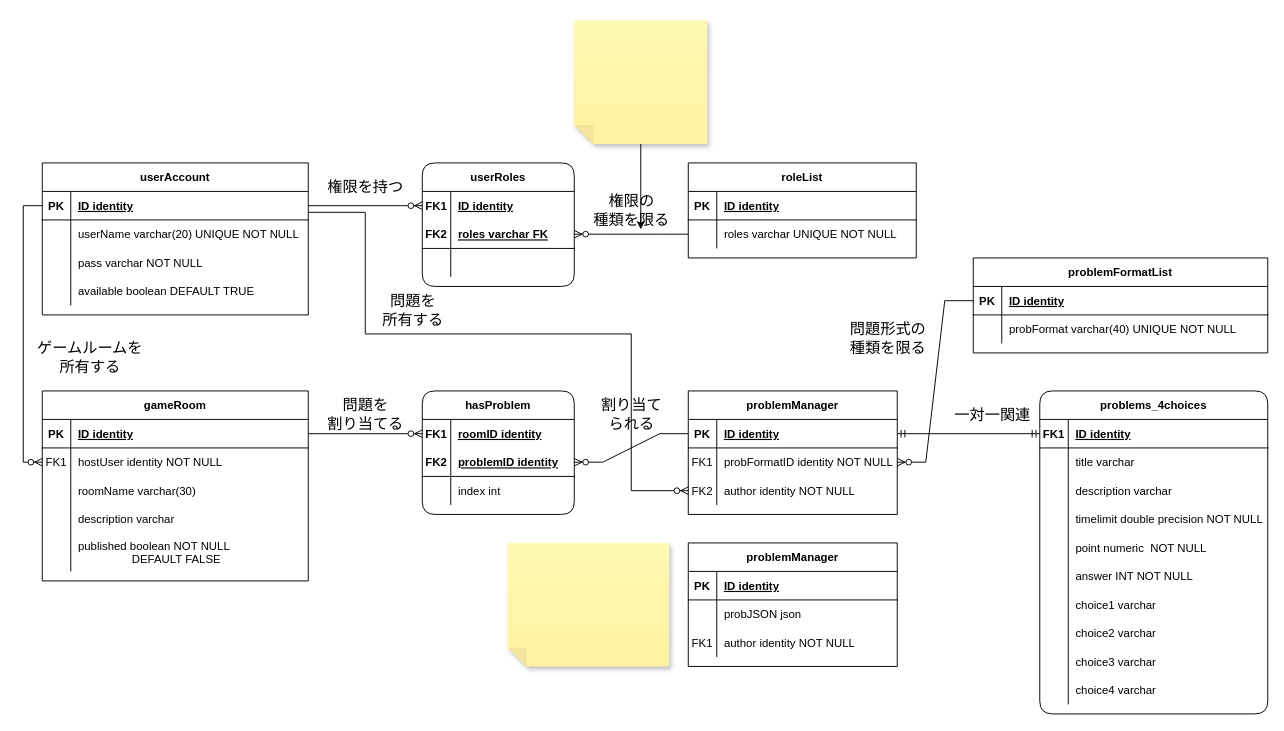
The diagram is 1284 pixels wide and 731 high, and some of its shapes have lost their labels. Here are the shapes that lost their labels. From the top down, the centre of each, then its label:
(641,83): ID管理を基本的にするのならば，userRoles - roleListの関連もID同士にすべきに思う．
(589,606): 完全SQLで問題データを格納/管理するか， 問題データ自体はJSON形式で格納するか
